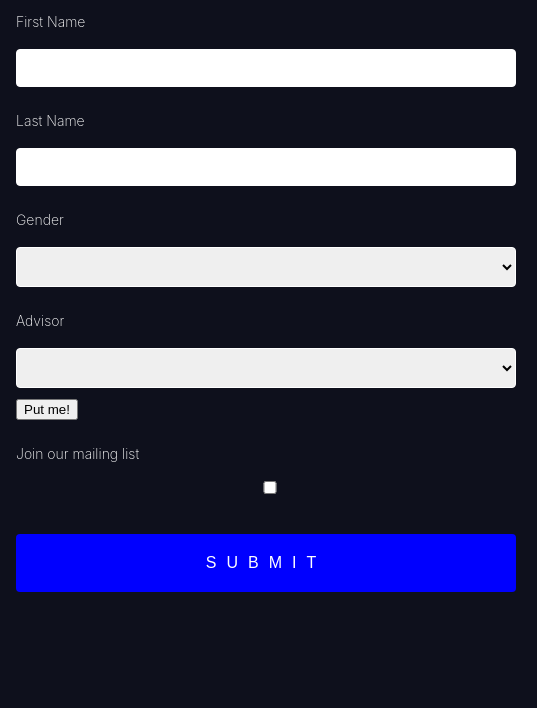
Test: Display email input after checkbox with join agreement is selected
This screenshot has width=537, height=708.
What coordinates should you click on to do the following:
click the checkbox labelled "Join our mailing list"
I would click on:
 (270, 488)
Its box is x1=20 y1=481 x2=520 y2=494.
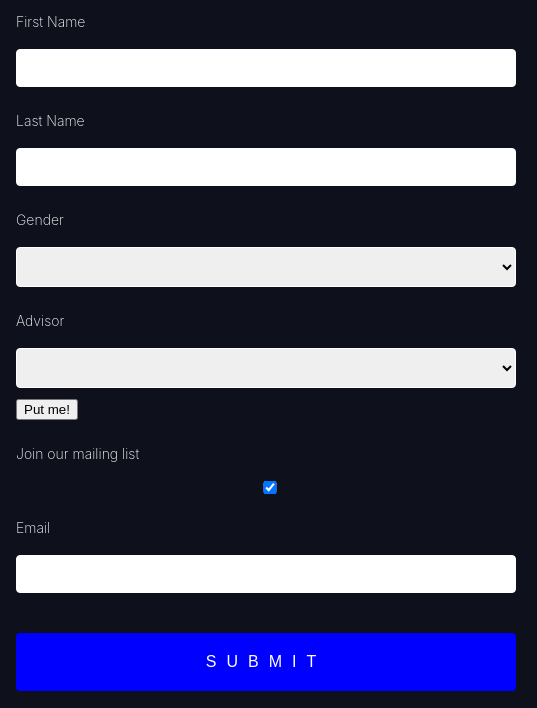
Expected: the field labelled "Email" is shown, x1=16 y1=555 x2=516 y2=593
